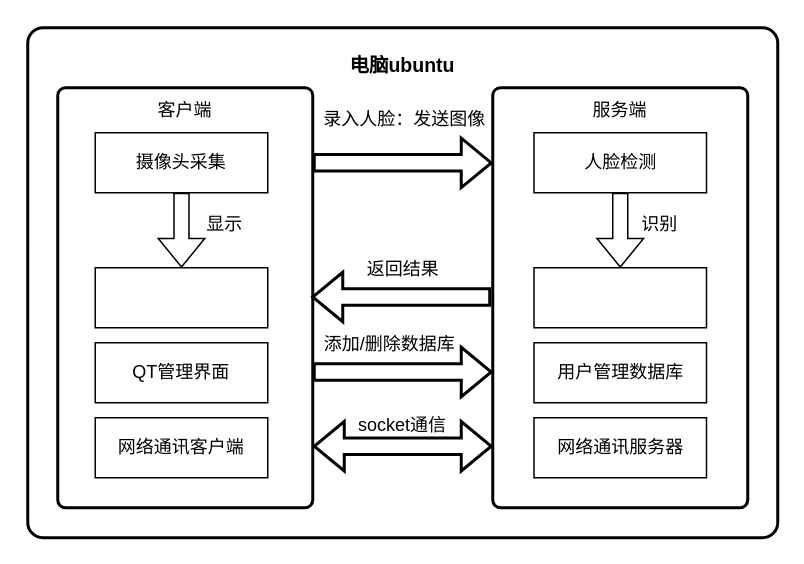
Some shapes in this 804 by 564 pixel diagram are drawn without their labels. The shapes that lost their labels are listed below. From the top down, each one's centre as x and y in pixels, then its label:
At pixel 181 297: "QT界面".
At pixel 619 297: "人脸识别".
